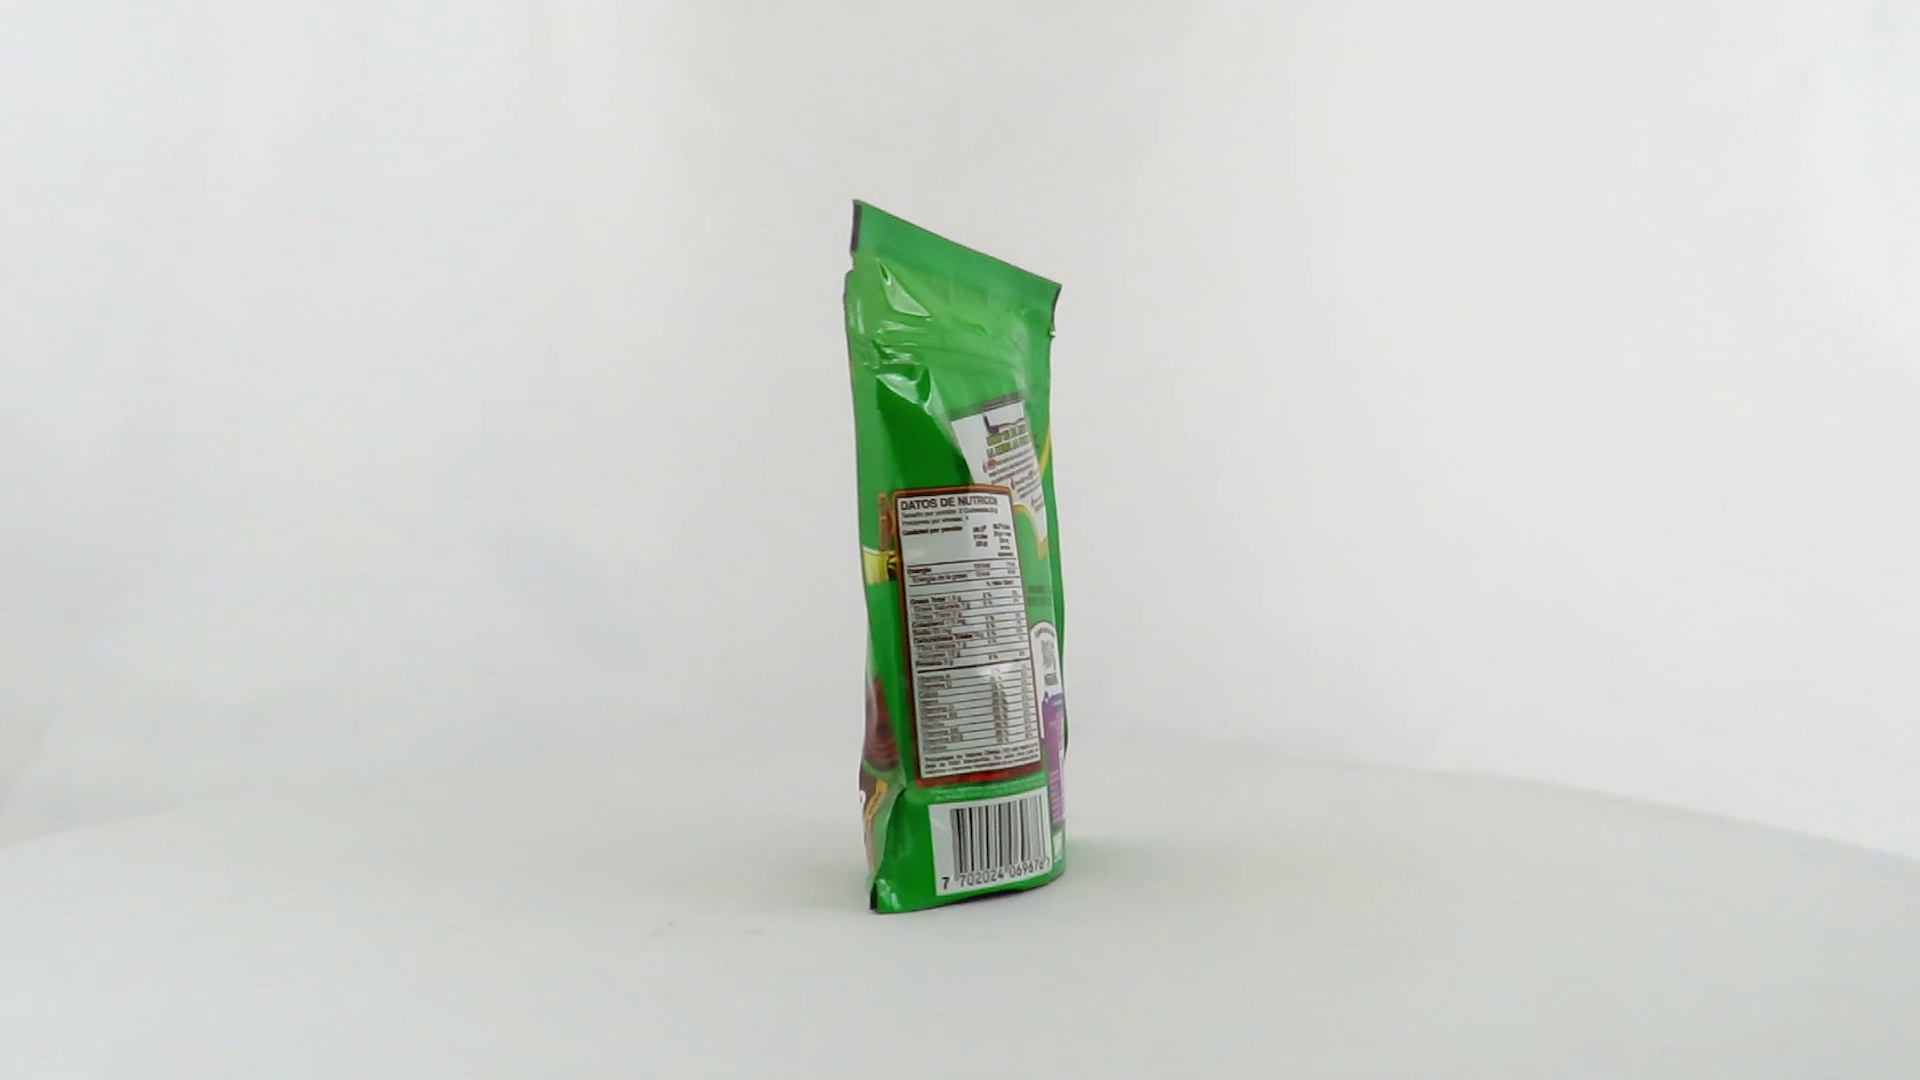COL0170203DYP10000: (837, 194, 1073, 920)
